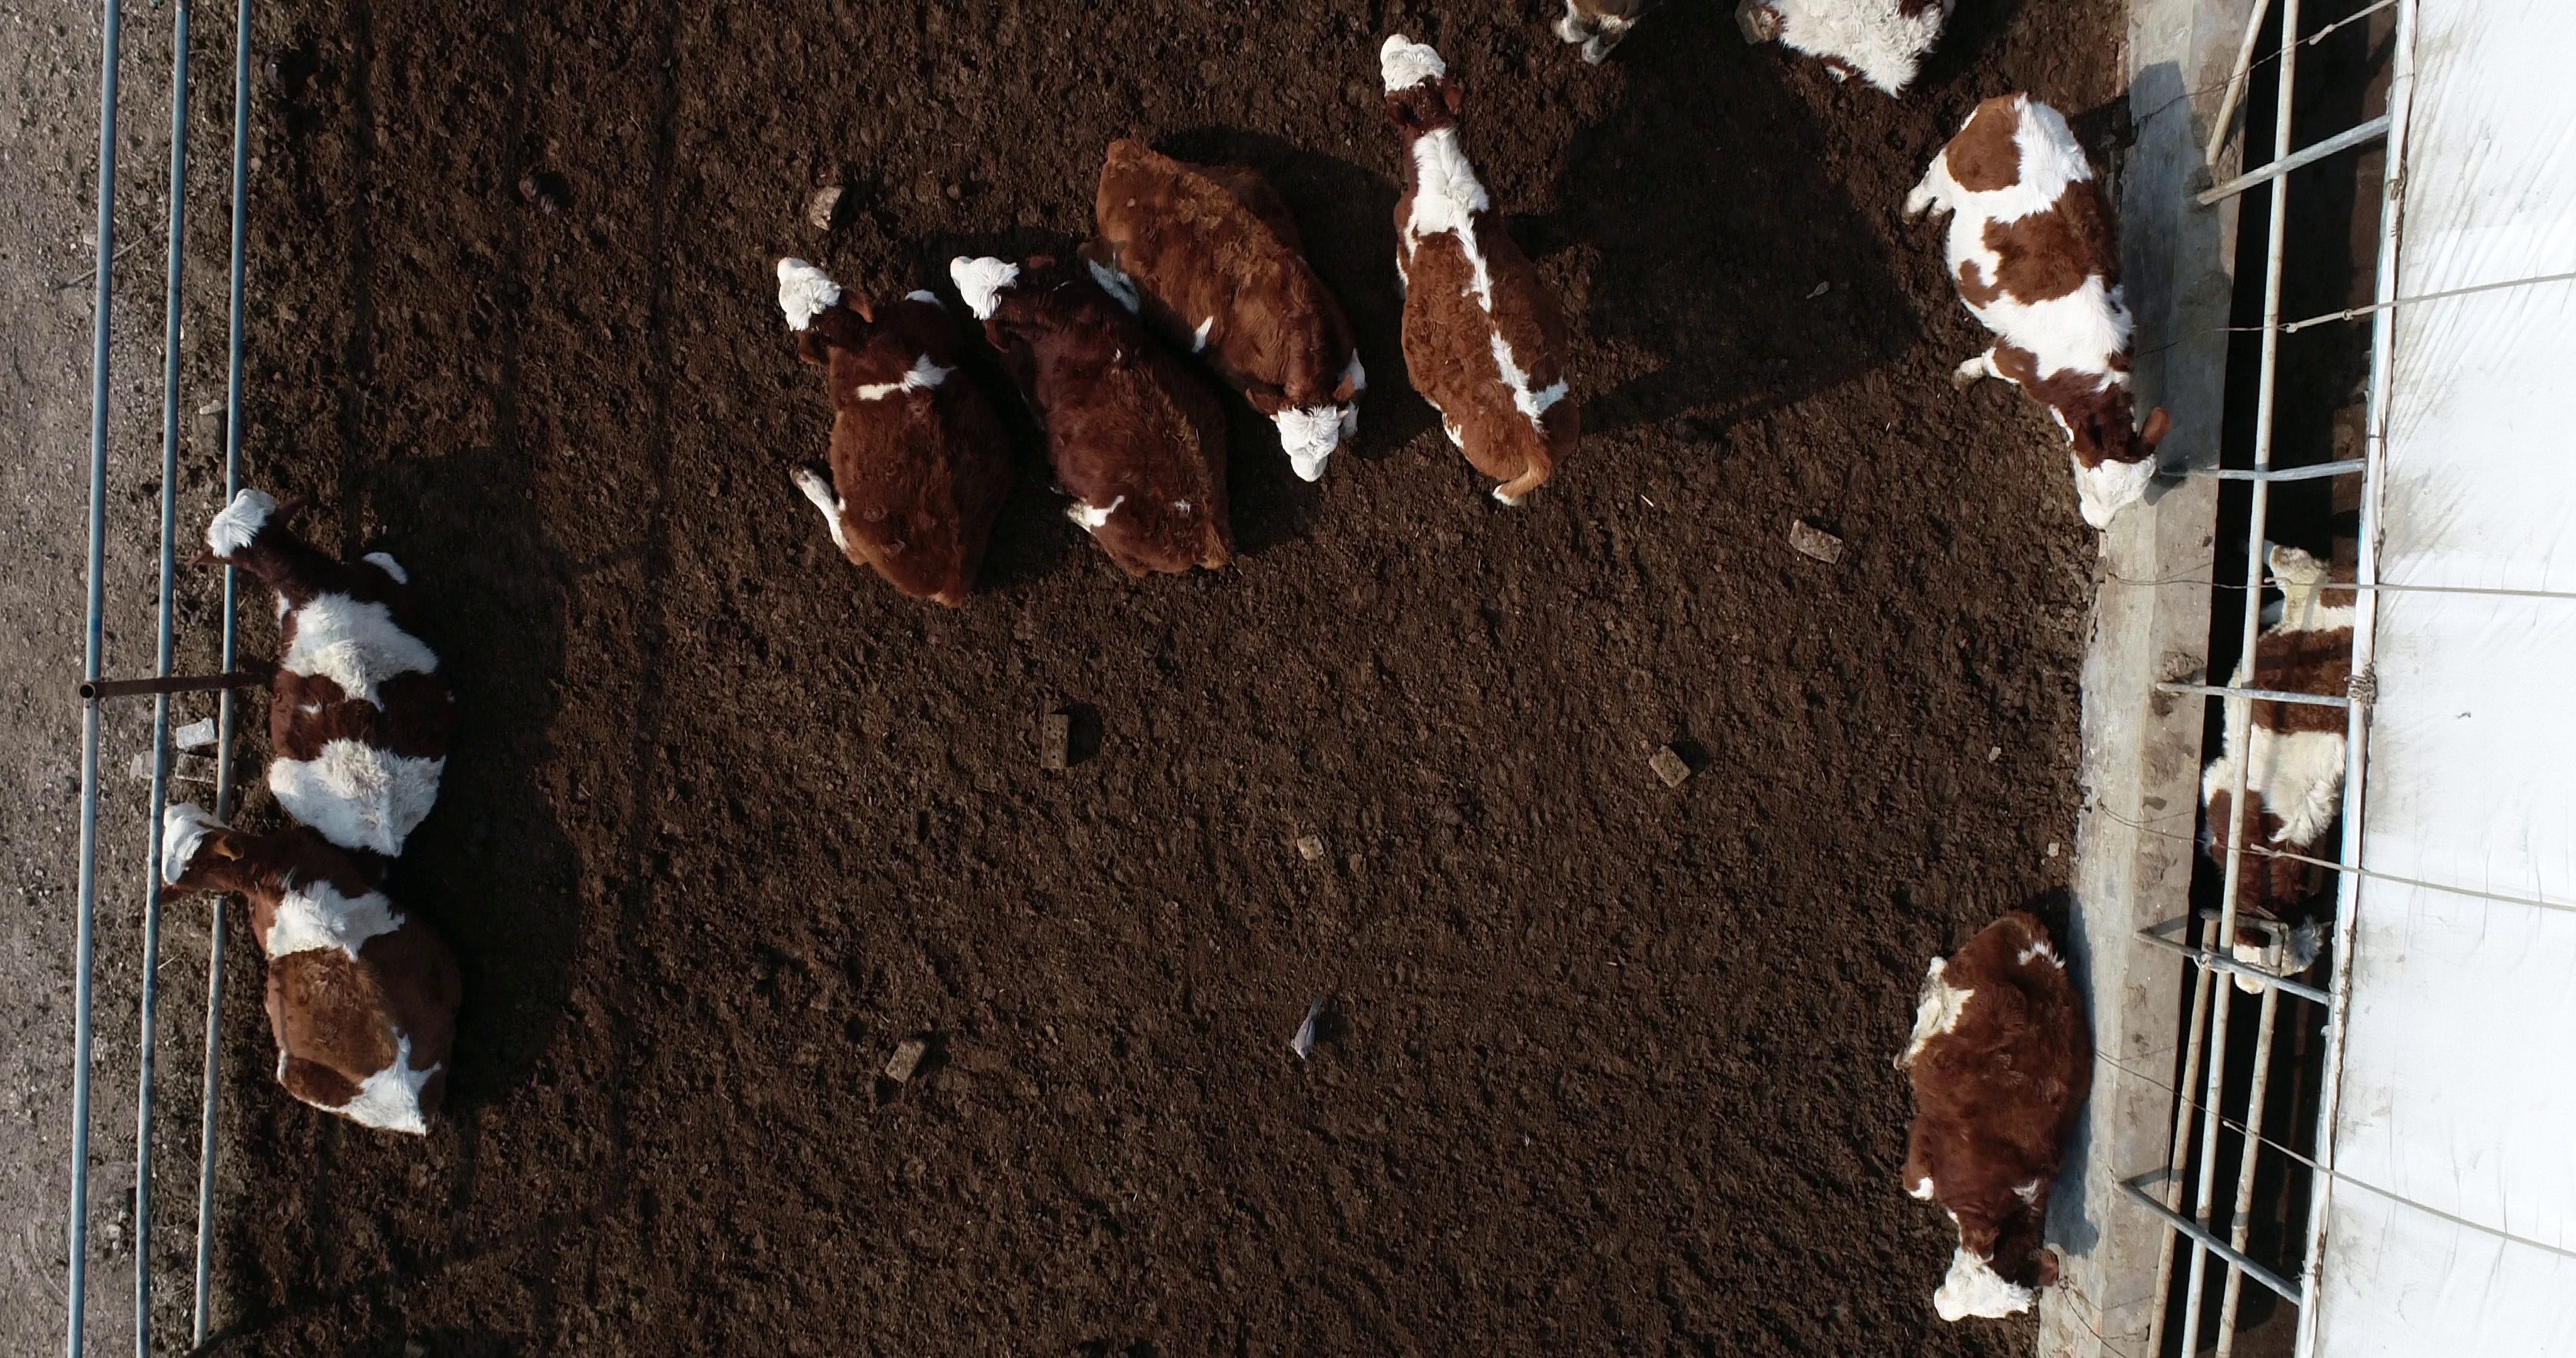cattle: (1893, 89, 2176, 535), (147, 797, 472, 1140), (1360, 27, 1590, 509), (1078, 124, 1378, 486), (944, 232, 1244, 581), (199, 480, 460, 867), (1879, 898, 2101, 1329), (760, 250, 1007, 619)
